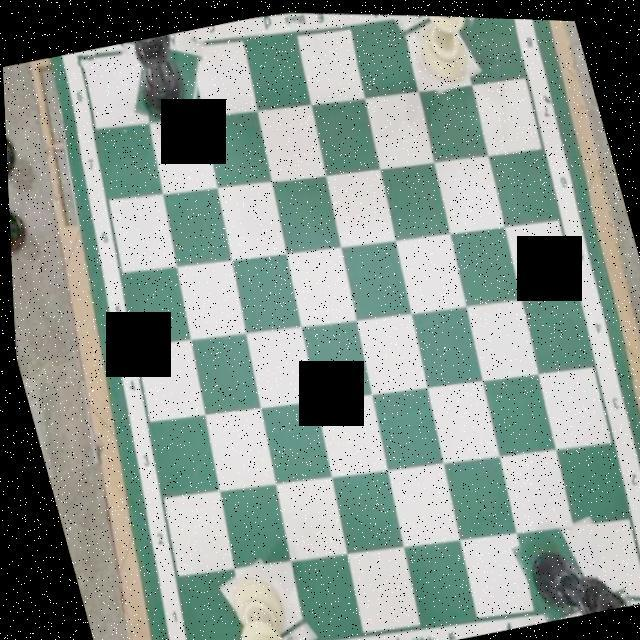chess-table-corners: (611, 564, 640, 602), (62, 46, 102, 72)
